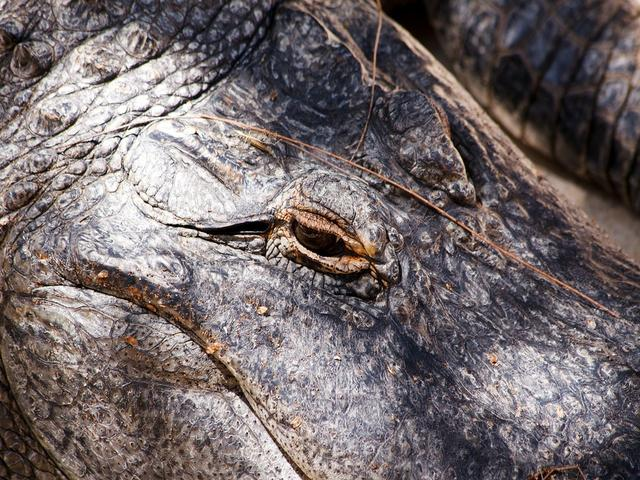crocodile: (14, 7, 548, 405)
